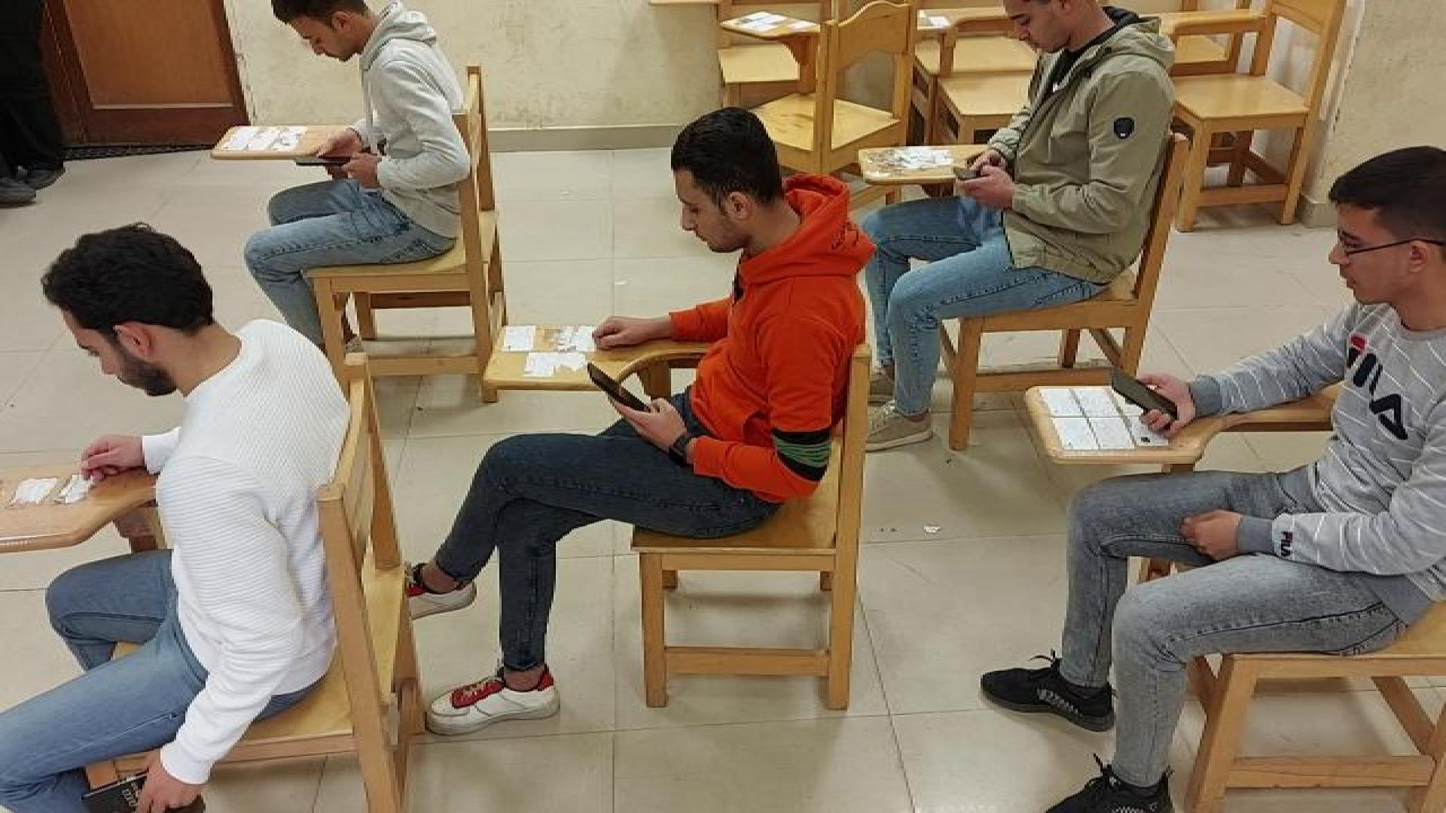phone: (578, 352, 671, 429), (1103, 359, 1193, 429), (80, 767, 216, 813), (293, 146, 365, 178), (946, 158, 1004, 193)
